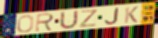J: (104, 7, 120, 26)
K: (124, 6, 140, 24)
O: (16, 15, 35, 34)
R: (34, 12, 56, 33)
U: (58, 10, 79, 31)
Z: (79, 9, 100, 28)
